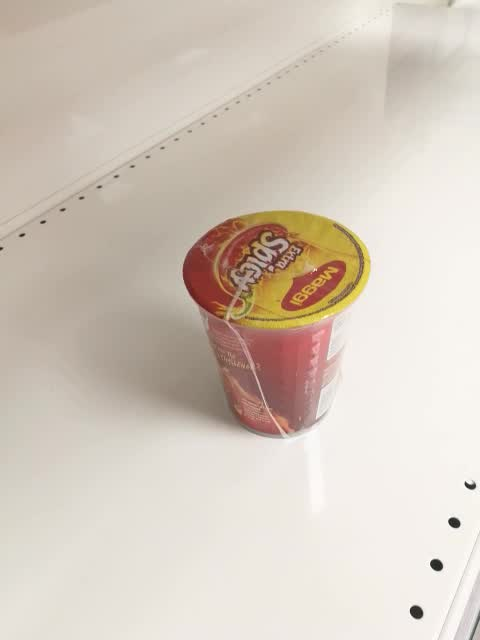maggi: (181, 208, 372, 441)
